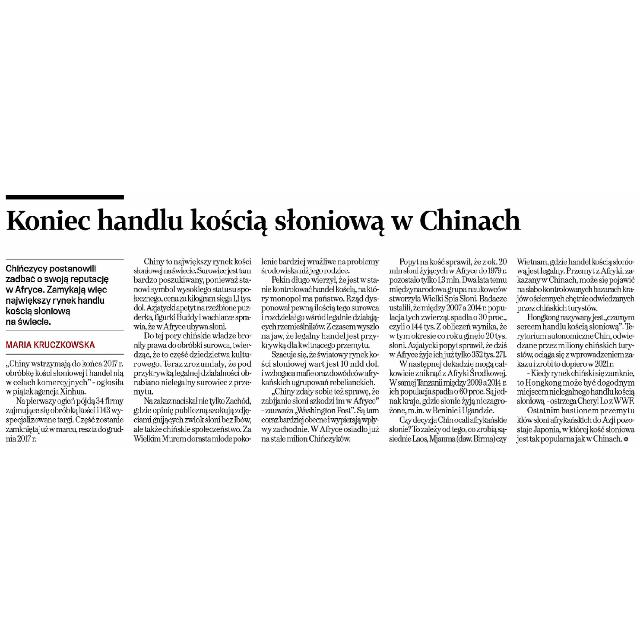author: (3, 338, 98, 350)
body: (130, 254, 256, 444), (258, 254, 382, 446), (514, 254, 638, 443), (388, 256, 509, 444), (2, 358, 128, 444)
lead: (2, 261, 114, 327)
title: (4, 203, 526, 237)
